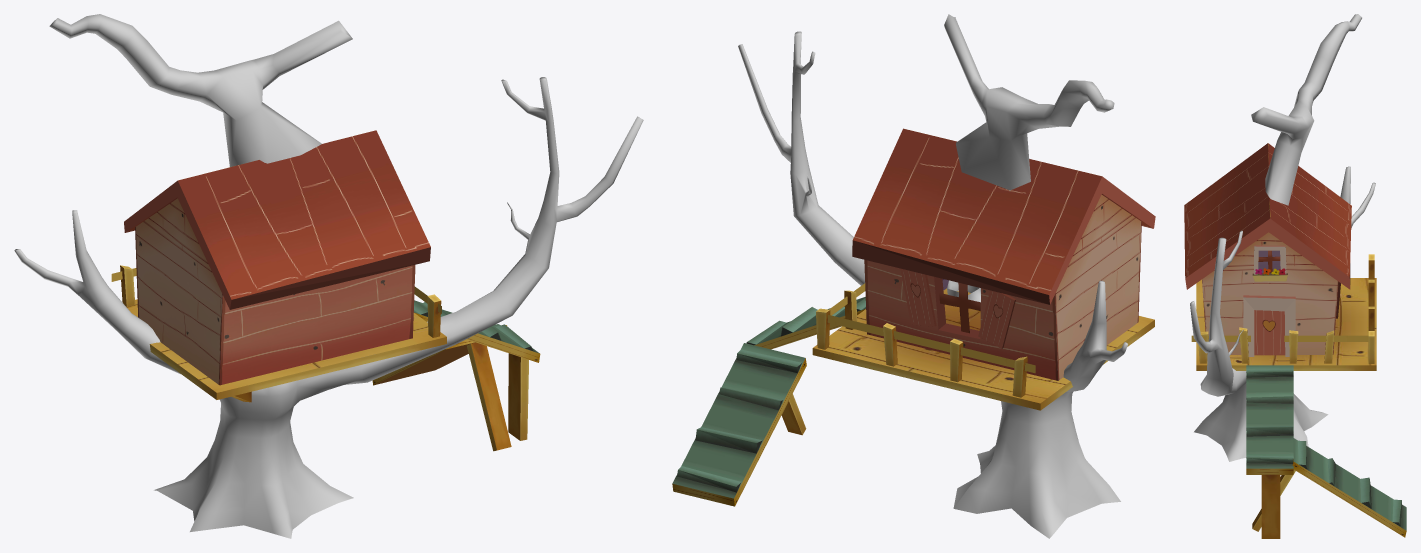
The model's file is saacmc.dae.
The picture shows the model from 3 angles, left to right: view 1: azimuth 30°, elevation 25°; view 2: azimuth 150°, elevation 25°; view 3: azimuth 270°, elevation 25°; orthographic projection. The views are drawn at different scales.
Visible parts, largest first — view 1: CMC_Treehouse_Tree, CMC_Treehouse_Extras, CMC_Treehouse_Main, CMC_Treehouse_Ramps; view 2: CMC_Treehouse_Extras, CMC_Treehouse_Tree, CMC_Treehouse_Main, CMC_Treehouse_Ramps, CMC_Treehouse_Transparent; view 3: CMC_Treehouse_Extras, CMC_Treehouse_Tree, CMC_Treehouse_Ramps, CMC_Treehouse_Main, CMC_Treehouse_Transparent.
Part boxes in pixels (bbox=[...]): CMC_Treehouse_Tree: bbox=[14, 14, 643, 538]; CMC_Treehouse_Extras: bbox=[111, 130, 528, 451]; CMC_Treehouse_Main: bbox=[135, 198, 415, 385]; CMC_Treehouse_Ramps: bbox=[372, 300, 540, 385]; CMC_Treehouse_Extras: bbox=[781, 128, 1155, 435]; CMC_Treehouse_Tree: bbox=[738, 14, 1127, 538]; CMC_Treehouse_Main: bbox=[864, 194, 1141, 380]; CMC_Treehouse_Ramps: bbox=[672, 297, 865, 506]; CMC_Treehouse_Transparent: bbox=[900, 268, 1015, 348]; CMC_Treehouse_Extras: bbox=[1184, 143, 1376, 538]; CMC_Treehouse_Tree: bbox=[1190, 14, 1375, 461]; CMC_Treehouse_Ramps: bbox=[1246, 365, 1406, 537]; CMC_Treehouse_Main: bbox=[1202, 232, 1338, 354]; CMC_Treehouse_Transparent: bbox=[1254, 250, 1340, 355].
Size of the model in its own units: 113 by 103 by 54.82.
